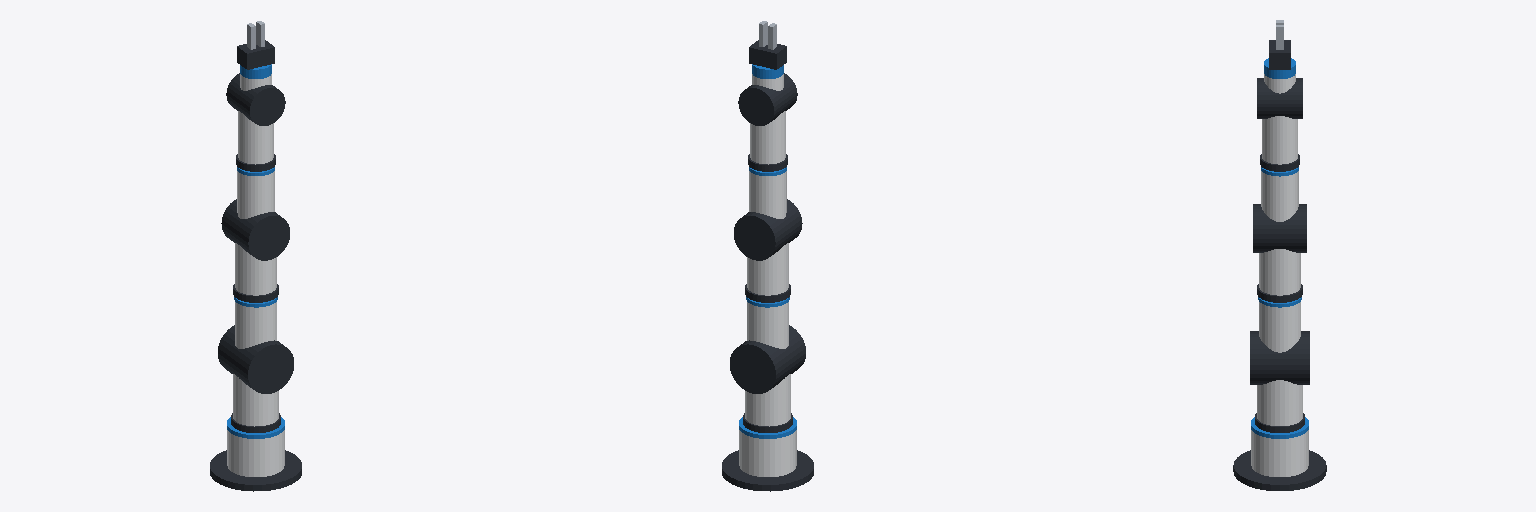
The robot description file, URDF, robot "arm7":
<?xml version="1.0"?>
<!-- A generic seven-joint arm for Kapto's demo and tests, sized like a
     collaborative arm (about 1.3 m tall when straight), drawn with simple
     shapes: hinge drums across the pitch joints, collars at the roll joints
     and a two-finger gripper that opens and closes. Its joints match
     the synthetic robot (tools/kapto-loadgen): seven joint positions in
     radians, in this order, and the gripper opening in metres. Apache-2.0, like the rest of Kapto. -->
<robot name="arm7">
  <material name="white"><color rgba="0.93 0.94 0.95 1"/></material>
  <material name="graphite"><color rgba="0.22 0.24 0.27 1"/></material>
  <material name="accent"><color rgba="0.16 0.55 0.86 1"/></material>
  <material name="steel"><color rgba="0.72 0.75 0.79 1"/></material>

  <link name="base_link">
    <visual>
      <origin xyz="0 0 0.01"/>
      <geometry><cylinder radius="0.13" length="0.02"/></geometry>
      <material name="graphite"/>
    </visual>
    <visual>
      <origin xyz="0 0 0.085"/>
      <geometry><cylinder radius="0.08" length="0.13"/></geometry>
      <material name="white"/>
    </visual>
    <visual>
      <origin xyz="0 0 0.145"/>
      <geometry><cylinder radius="0.082" length="0.012"/></geometry>
      <material name="accent"/>
    </visual>
    <collision>
      <origin xyz="0 0 0.075"/>
      <geometry><cylinder radius="0.09" length="0.15"/></geometry>
    </collision>
  </link>
  <link name="link_1">
    <visual>
      <origin xyz="0 0 0.01"/>
      <geometry><cylinder radius="0.07" length="0.02"/></geometry>
      <material name="graphite"/>
    </visual>
    <visual>
      <origin xyz="0 0 0.1"/>
      <geometry><cylinder radius="0.065" length="0.16"/></geometry>
      <material name="white"/>
    </visual>
    <collision>
      <origin xyz="0 0 0.1"/>
      <geometry><cylinder radius="0.06" length="0.2"/></geometry>
    </collision>
  </link>
  <link name="link_2">
    <visual>
      <origin xyz="0 0 0" rpy="1.5708 0 0"/>
      <geometry><cylinder radius="0.075" length="0.17"/></geometry>
      <material name="graphite"/>
    </visual>
    <visual>
      <origin xyz="0 0 0.11"/>
      <geometry><cylinder radius="0.06" length="0.16"/></geometry>
      <material name="white"/>
    </visual>
    <visual>
      <origin xyz="0 0 0.19"/>
      <geometry><cylinder radius="0.062" length="0.01"/></geometry>
      <material name="accent"/>
    </visual>
    <collision>
      <geometry><sphere radius="0.07"/></geometry>
    </collision>
    <collision>
      <origin xyz="0 0 0.1"/>
      <geometry><cylinder radius="0.06" length="0.2"/></geometry>
    </collision>
  </link>
  <link name="link_3">
    <visual>
      <origin xyz="0 0 0.01"/>
      <geometry><cylinder radius="0.064" length="0.02"/></geometry>
      <material name="graphite"/>
    </visual>
    <visual>
      <origin xyz="0 0 0.1"/>
      <geometry><cylinder radius="0.058" length="0.18"/></geometry>
      <material name="white"/>
    </visual>
    <collision>
      <origin xyz="0 0 0.1"/>
      <geometry><cylinder radius="0.055" length="0.2"/></geometry>
    </collision>
  </link>
  <link name="link_4">
    <visual>
      <origin xyz="0 0 0" rpy="1.5708 0 0"/>
      <geometry><cylinder radius="0.068" length="0.15"/></geometry>
      <material name="graphite"/>
    </visual>
    <visual>
      <origin xyz="0 0 0.11"/>
      <geometry><cylinder radius="0.052" length="0.16"/></geometry>
      <material name="white"/>
    </visual>
    <visual>
      <origin xyz="0 0 0.19"/>
      <geometry><cylinder radius="0.054" length="0.01"/></geometry>
      <material name="accent"/>
    </visual>
    <collision>
      <geometry><sphere radius="0.065"/></geometry>
    </collision>
    <collision>
      <origin xyz="0 0 0.1"/>
      <geometry><cylinder radius="0.055" length="0.2"/></geometry>
    </collision>
  </link>
  <link name="link_5">
    <visual>
      <origin xyz="0 0 0.01"/>
      <geometry><cylinder radius="0.056" length="0.02"/></geometry>
      <material name="graphite"/>
    </visual>
    <visual>
      <origin xyz="0 0 0.1"/>
      <geometry><cylinder radius="0.05" length="0.18"/></geometry>
      <material name="white"/>
    </visual>
    <collision>
      <origin xyz="0 0 0.1"/>
      <geometry><cylinder radius="0.05" length="0.2"/></geometry>
    </collision>
  </link>
  <link name="link_6">
    <visual>
      <origin xyz="0 0 0" rpy="1.5708 0 0"/>
      <geometry><cylinder radius="0.058" length="0.13"/></geometry>
      <material name="graphite"/>
    </visual>
    <visual>
      <origin xyz="0 0 0.055"/>
      <geometry><cylinder radius="0.045" length="0.05"/></geometry>
      <material name="white"/>
    </visual>
    <collision>
      <geometry><sphere radius="0.06"/></geometry>
    </collision>
    <collision>
      <origin xyz="0 0 0.04"/>
      <geometry><cylinder radius="0.05" length="0.08"/></geometry>
    </collision>
  </link>
  <link name="link_7">
    <visual>
      <origin xyz="0 0 0.015"/>
      <geometry><cylinder radius="0.045" length="0.03"/></geometry>
      <material name="accent"/>
    </visual>
    <collision>
      <origin xyz="0 0 0.015"/>
      <geometry><cylinder radius="0.045" length="0.03"/></geometry>
    </collision>
  </link>
  <link name="tool">
    <visual>
      <origin xyz="0 0 0.025"/>
      <geometry><box size="0.09 0.06 0.05"/></geometry>
      <material name="graphite"/>
    </visual>
    <collision>
      <origin xyz="0 0 0.04"/>
      <geometry><box size="0.12 0.04 0.08"/></geometry>
    </collision>
  </link>

  <link name="finger_left">
    <visual>
      <origin xyz="0.0075 0 0.035"/>
      <geometry><box size="0.015 0.025 0.07"/></geometry>
      <material name="steel"/>
    </visual>
    <collision>
      <origin xyz="0.0075 0 0.035"/>
      <geometry><box size="0.015 0.025 0.07"/></geometry>
    </collision>
  </link>
  <link name="finger_right">
    <visual>
      <origin xyz="-0.0075 0 0.035"/>
      <geometry><box size="0.015 0.025 0.07"/></geometry>
      <material name="steel"/>
    </visual>
    <collision>
      <origin xyz="-0.0075 0 0.035"/>
      <geometry><box size="0.015 0.025 0.07"/></geometry>
    </collision>
  </link>

  <joint name="joint_1" type="revolute">
    <parent link="base_link"/><child link="link_1"/>
    <origin xyz="0 0 0.15"/><axis xyz="0 0 1"/>
    <limit lower="-2.9" upper="2.9" effort="100" velocity="2"/>
  </joint>
  <joint name="joint_2" type="revolute">
    <parent link="link_1"/><child link="link_2"/>
    <origin xyz="0 0 0.2"/><axis xyz="0 1 0"/>
    <limit lower="-2" upper="2" effort="100" velocity="2"/>
  </joint>
  <joint name="joint_3" type="revolute">
    <parent link="link_2"/><child link="link_3"/>
    <origin xyz="0 0 0.2"/><axis xyz="0 0 1"/>
    <limit lower="-2.9" upper="2.9" effort="100" velocity="2"/>
  </joint>
  <joint name="joint_4" type="revolute">
    <parent link="link_3"/><child link="link_4"/>
    <origin xyz="0 0 0.2"/><axis xyz="0 1 0"/>
    <limit lower="-2" upper="2" effort="100" velocity="2"/>
  </joint>
  <joint name="joint_5" type="revolute">
    <parent link="link_4"/><child link="link_5"/>
    <origin xyz="0 0 0.2"/><axis xyz="0 0 1"/>
    <limit lower="-2.9" upper="2.9" effort="100" velocity="2"/>
  </joint>
  <joint name="joint_6" type="revolute">
    <parent link="link_5"/><child link="link_6"/>
    <origin xyz="0 0 0.2"/><axis xyz="0 1 0"/>
    <limit lower="-2" upper="2" effort="100" velocity="2"/>
  </joint>
  <joint name="joint_7" type="revolute">
    <parent link="link_6"/><child link="link_7"/>
    <origin xyz="0 0 0.08"/><axis xyz="0 0 1"/>
    <limit lower="-3" upper="3" effort="100" velocity="2"/>
  </joint>
  <joint name="tool_mount" type="fixed">
    <parent link="link_7"/><child link="tool"/>
    <origin xyz="0 0 0.03"/>
  </joint>
  <!-- The gripper: each finger slides out from the middle; the right one
       mirrors the left, so one value opens and closes both. -->
  <joint name="gripper" type="prismatic">
    <parent link="tool"/><child link="finger_left"/>
    <origin xyz="0.008 0 0.05"/><axis xyz="1 0 0"/>
    <limit lower="0" upper="0.035" effort="20" velocity="0.1"/>
  </joint>
  <joint name="gripper_mirror" type="prismatic">
    <parent link="tool"/><child link="finger_right"/>
    <origin xyz="-0.008 0 0.05"/><axis xyz="-1 0 0"/>
    <limit lower="0" upper="0.035" effort="20" velocity="0.1"/>
    <mimic joint="gripper"/>
  </joint>
</robot>

--- Facts derived from the render (not from the file) ---
The picture shows the robot from 3 angles, left to right: view 1: azimuth 30°, elevation 25°; view 2: azimuth 150°, elevation 25°; view 3: azimuth 270°, elevation 25°; orthographic projection.
Model arm7 with 11 links and 10 joints (7 revolute, 2 prismatic, 1 fixed), rooted at base_link, posed every joint at zero.
Visible links, largest first — view 1: link_2, base_link, link_4, link_6, link_1, link_3, link_5, tool; view 2: link_2, base_link, link_4, link_6, link_1, link_3, link_5, tool; view 3: base_link, link_2, link_4, link_1, link_3, link_5, link_6, tool.
Link boxes in pixels (x1=…): link_2: x1=218, y1=297, x2=293, y2=393; base_link: x1=210, y1=417, x2=301, y2=491; link_4: x1=221, y1=167, x2=289, y2=260; link_6: x1=226, y1=73, x2=285, y2=125; link_1: x1=231, y1=374, x2=280, y2=432; link_3: x1=233, y1=243, x2=278, y2=302; link_5: x1=236, y1=111, x2=275, y2=171; tool: x1=237, y1=40, x2=274, y2=69; link_2: x1=730, y1=297, x2=805, y2=393; base_link: x1=722, y1=417, x2=813, y2=491; link_4: x1=734, y1=167, x2=802, y2=260; link_6: x1=738, y1=73, x2=797, y2=125; link_1: x1=743, y1=374, x2=792, y2=432; link_3: x1=745, y1=243, x2=790, y2=302; link_5: x1=748, y1=111, x2=787, y2=171; tool: x1=749, y1=40, x2=786, y2=69; base_link: x1=1233, y1=417, x2=1326, y2=490; link_2: x1=1250, y1=297, x2=1309, y2=384; link_4: x1=1253, y1=167, x2=1306, y2=252; link_1: x1=1255, y1=380, x2=1304, y2=432; link_3: x1=1257, y1=249, x2=1302, y2=302; link_5: x1=1260, y1=116, x2=1299, y2=171; link_6: x1=1257, y1=74, x2=1302, y2=118; tool: x1=1269, y1=40, x2=1290, y2=69.
Size in the robot's own frame: 0.26 by 0.26 by 1.38 metres.
Geometry: primitives only (box / cylinder / sphere), no mesh files.
